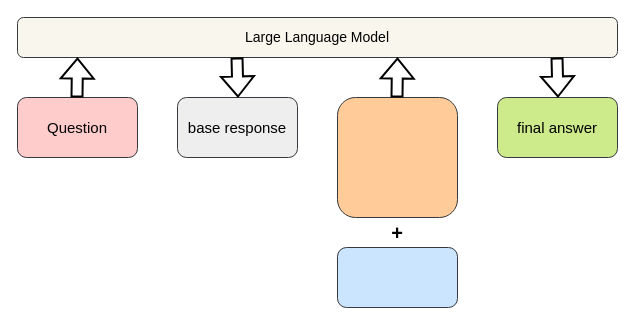
Some shapes in this 635 by 325 pixel diagram are drawn without their labels. Here are the shapes that lost their labels. From the top down, the box of each, then its label:
(336, 96, 458, 218): background of entities in question and response
(336, 246, 458, 308): prompt
